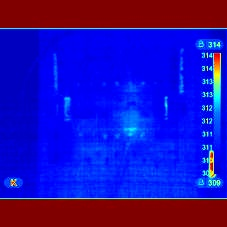Medium: (199, 148, 227, 185)
